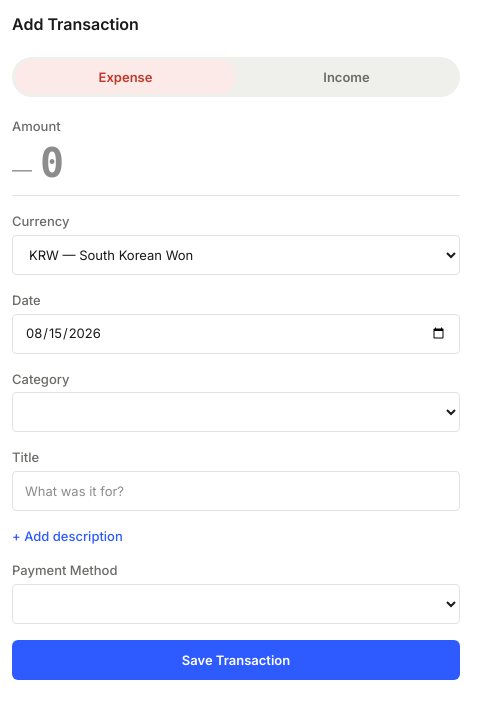
Test case: Add Transaction page › strips non-numeric characters from the amount
Type "12a,b00.5x" into the field labelled "Amount". click: (250, 163)
box: [40,139,460,187]
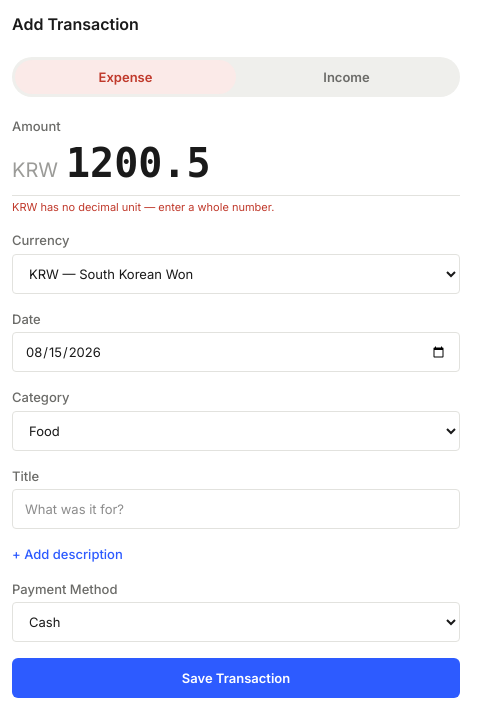
expect the field labelled "Amount" holds "1200.5": met, box [66,139,460,187]
